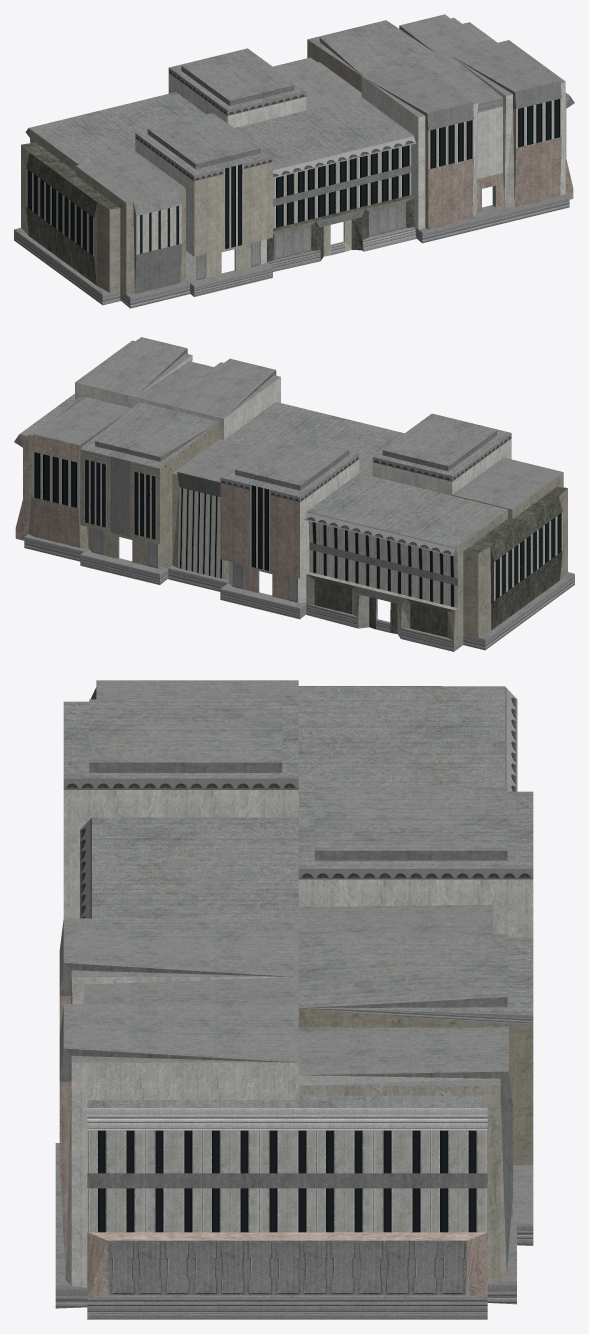
The model's file is thm_corl_imprv_building_block_64x32_s01_r0_exterior_mesh_r0_l2.fbx.
3 renders of one model, top to bottom at view 1: azimuth 30°, elevation 25°; view 2: azimuth 150°, elevation 25°; view 3: azimuth 270°, elevation 25°, orthographic. The views are drawn at different scales.
Visible parts, largest first — view 1: mesh_node; view 2: mesh_node; view 3: mesh_node.
Boxes of the visible parts, x1=… form: mesh_node: x1=14, y1=14, x2=574, y2=308; mesh_node: x1=14, y1=337, x2=574, y2=651; mesh_node: x1=55, y1=680, x2=533, y2=1319.
Size of the model in its own units: 66.11 by 17.25 by 29.5.
